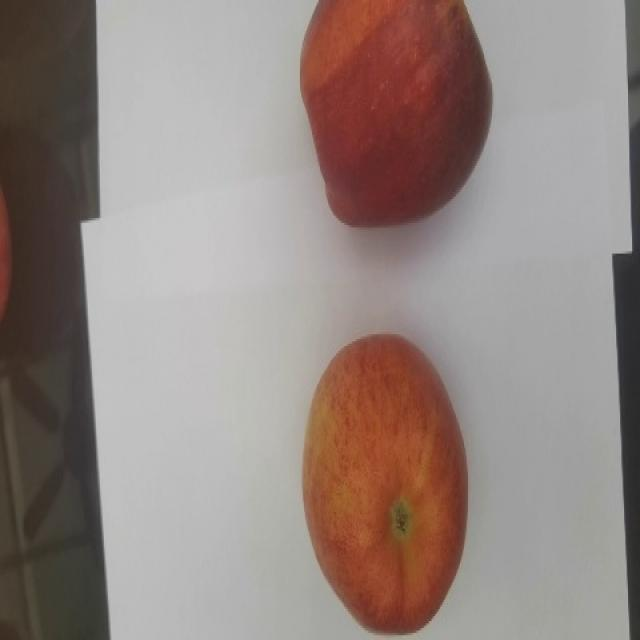Apple: (299, 334, 474, 638), (300, 0, 493, 230)
